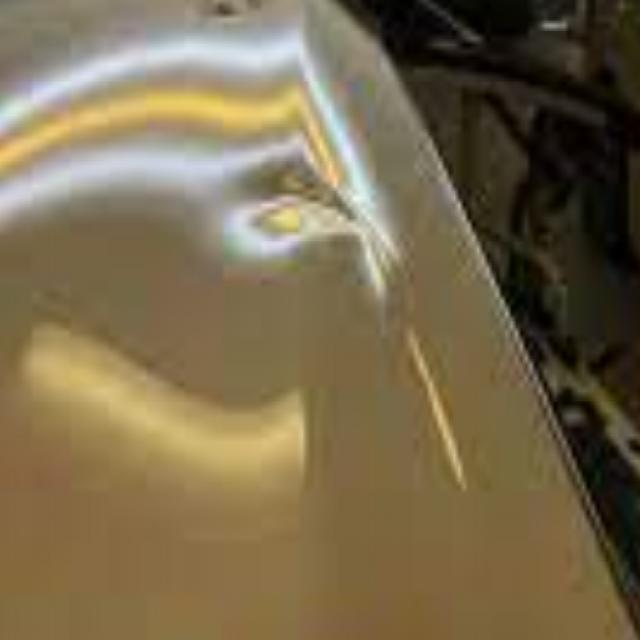dents: (223, 146, 388, 296)
